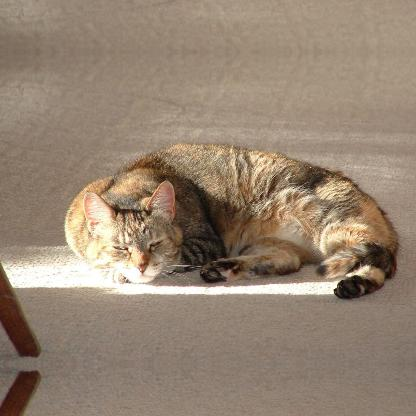Cat: (61, 140, 401, 302)
